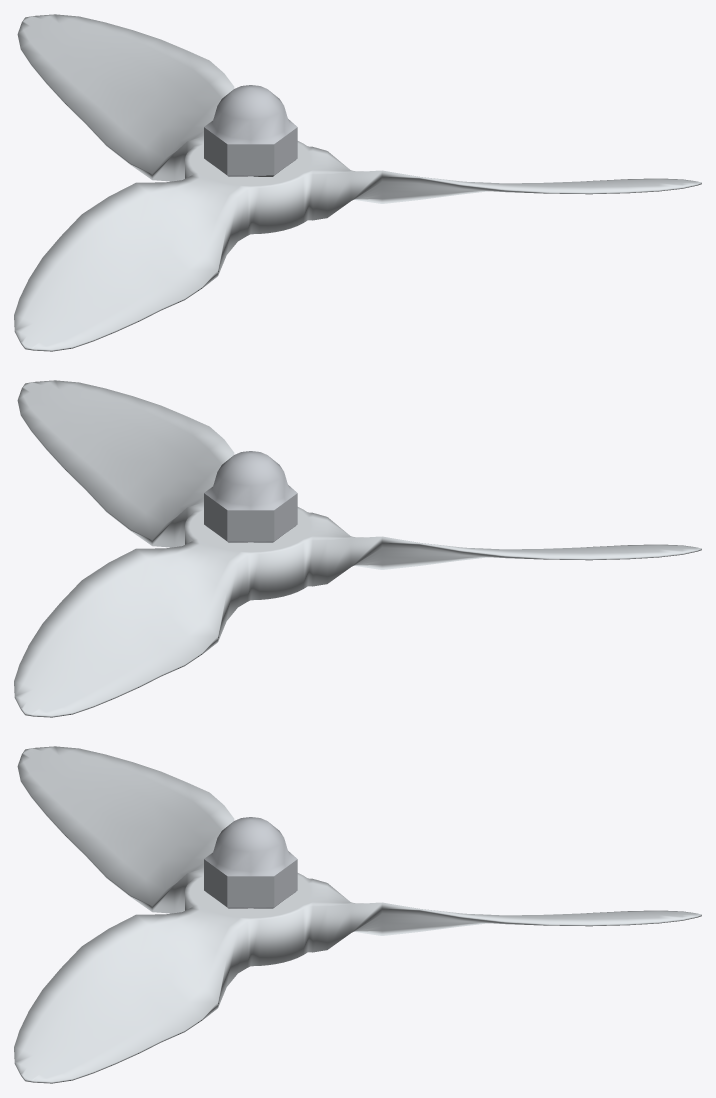
Rendered from HQProp_35x28x3.fbx.
3 renders of one model, top to bottom at view 1: azimuth 30°, elevation 25°; view 2: azimuth 150°, elevation 25°; view 3: azimuth 270°, elevation 25°, orthographic.
Parts seen in each view (by area): view 1: R3_PROP_HQProp_35x28x3, R3_NUT_HQProp_35x28x3; view 2: R3_PROP_HQProp_35x28x3, R3_NUT_HQProp_35x28x3; view 3: R3_PROP_HQProp_35x28x3, R3_NUT_HQProp_35x28x3.
Boxes of the visible parts, x1,y1,x2,y2 form: R3_PROP_HQProp_35x28x3: (14, 14, 701, 351); R3_NUT_HQProp_35x28x3: (204, 85, 297, 176); R3_PROP_HQProp_35x28x3: (14, 380, 701, 717); R3_NUT_HQProp_35x28x3: (204, 451, 297, 542); R3_PROP_HQProp_35x28x3: (14, 746, 701, 1083); R3_NUT_HQProp_35x28x3: (204, 817, 297, 908).
Size of the model in its own units: 0.077 by 0.0143 by 0.0678.
1 material, 1 textured.
